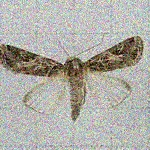Spodoptera litura: (0, 26, 144, 121)
